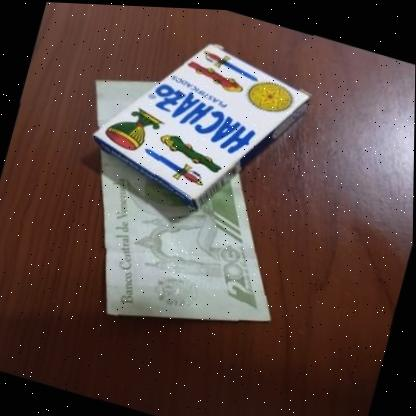vef_back: (36, 58, 323, 360)
